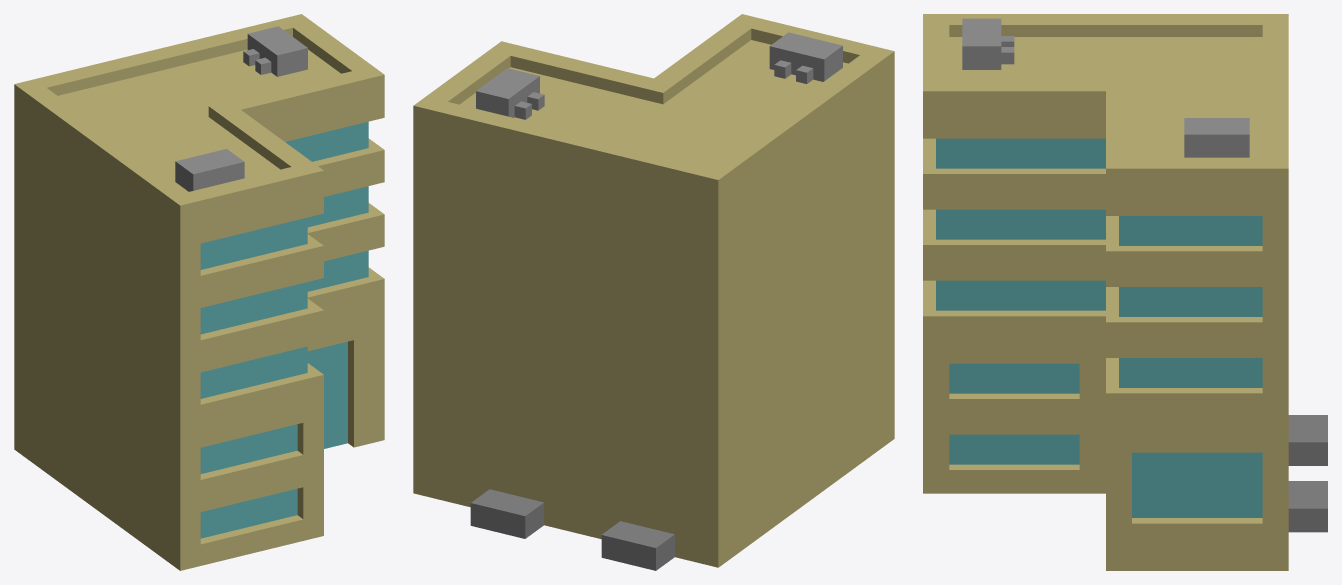
Rendered from Building03.fbx.
3 renders of one model, left to right at view 1: azimuth 30°, elevation 25°; view 2: azimuth 150°, elevation 25°; view 3: azimuth 270°, elevation 25°, orthographic. The views are drawn at different scales.
Visible parts, largest first — view 1: ObjObject.006; view 2: ObjObject.006; view 3: ObjObject.006.
Part boxes in pixels (x1,y1,x2,y2): ObjObject.006: (14,14,384,570); ObjObject.006: (413,14,894,570); ObjObject.006: (923,14,1327,570).
Size of the model in its own units: 280 by 310 by 350.
1 material, 1 textured.
